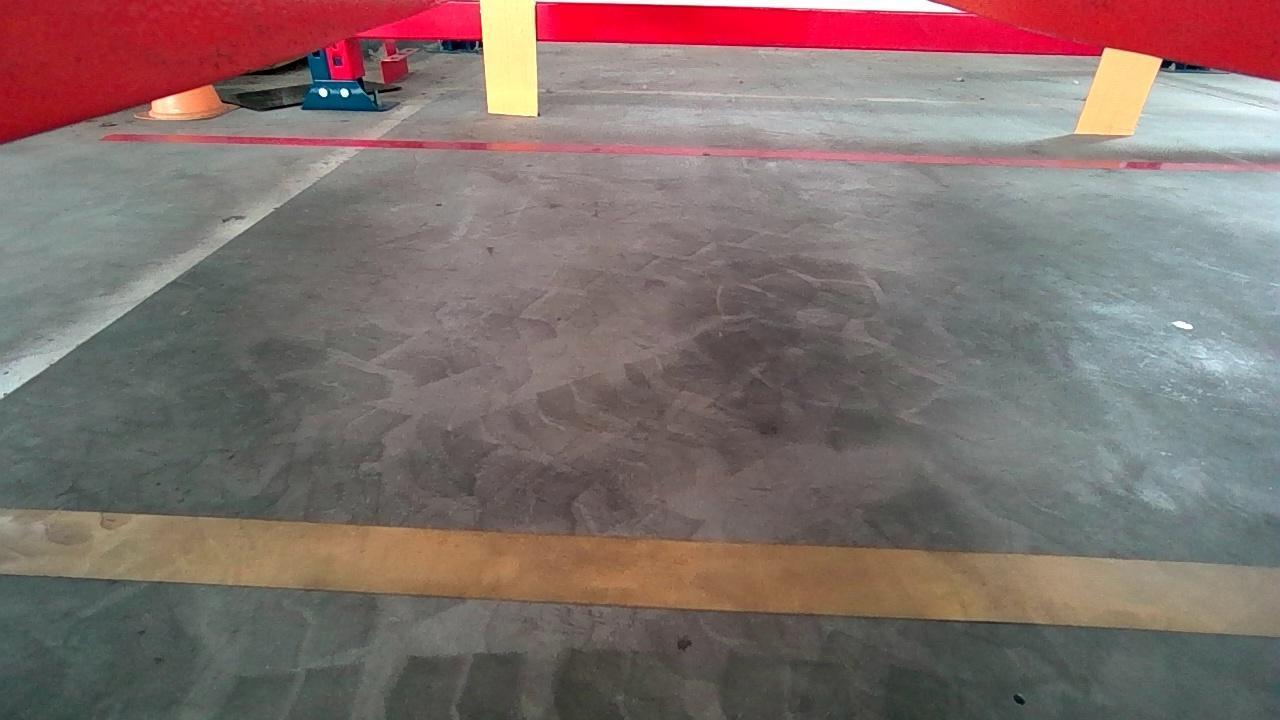h_rack: (360, 0, 1101, 53)
orange_strip: (1075, 43, 1164, 132), (478, 0, 536, 114)
red_line: (102, 129, 1279, 174)
